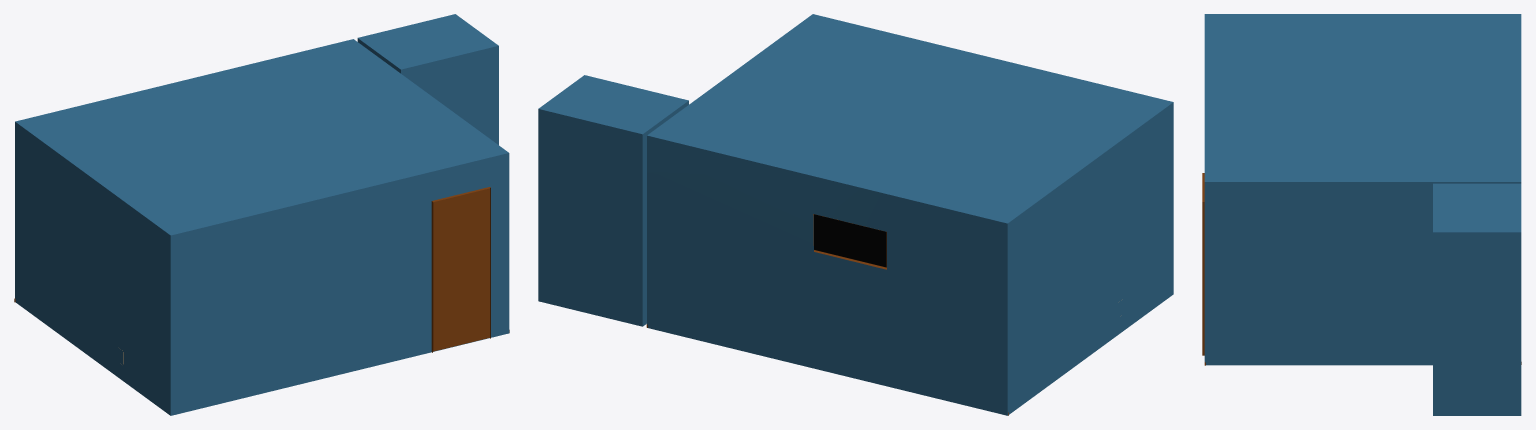
The model's file is alarm_clock_001.FBX.
3 views of the same model, side by side, from view 1: azimuth 30°, elevation 25°; view 2: azimuth 150°, elevation 25°; view 3: azimuth 270°, elevation 25° (orthographic). The views are drawn at different scales.
Parts seen in each view (by area): view 1: Box001, door_001, doorFrame002; view 2: Box001, window_card; view 3: Box001, doorFrame002.
Boxes of the visible parts, <box> form: Box001: <box>14,14,509,415</box>; door_001: <box>433,188,489,351</box>; doorFrame002: <box>431,187,490,352</box>; Box001: <box>538,14,1173,415</box>; window_card: <box>814,214,886,267</box>; Box001: <box>1204,14,1521,415</box>; doorFrame002: <box>1202,173,1204,355</box>.
Bounding box in the file's own units: 6.24 × 2.44 × 3.84.
